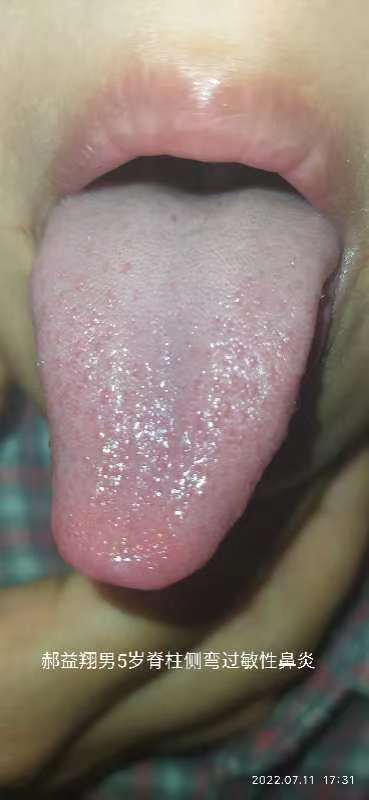baitaishe: (33, 183, 340, 590)
